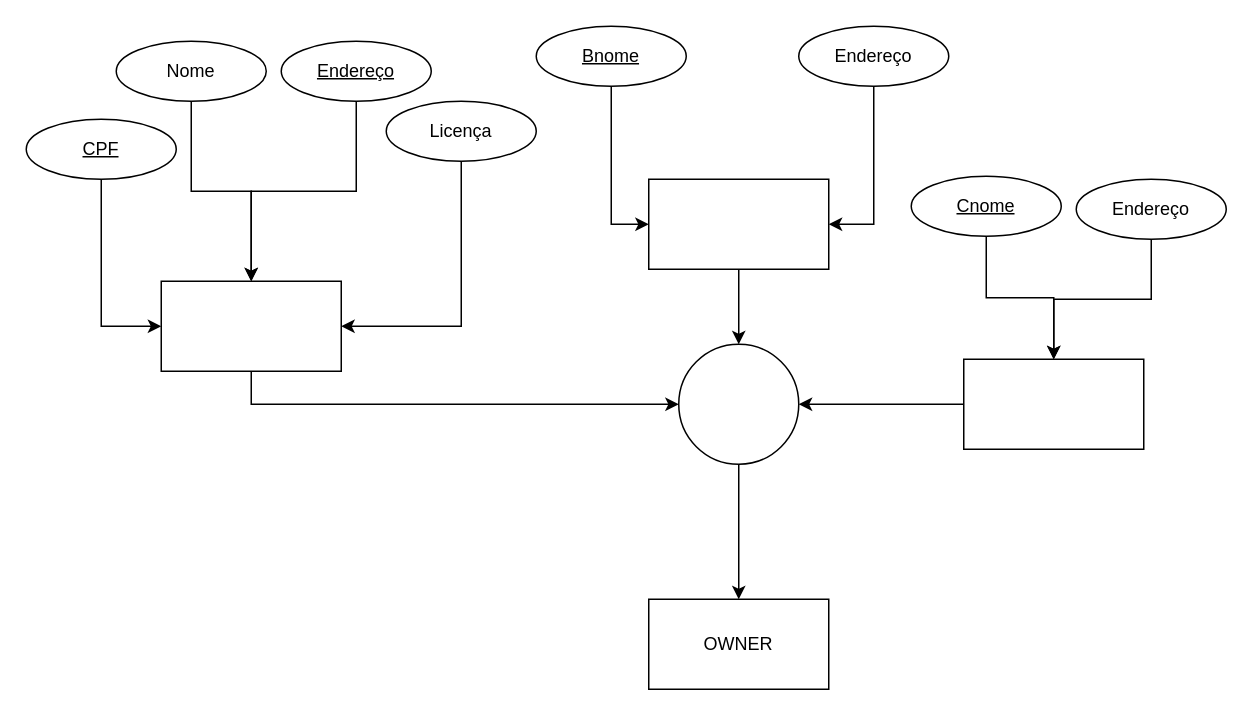
Some shapes in this 1253 by 716 pixel diagram are drawn without their labels. The centre of each missing label's shape, as x and y in pixels:
"BANCO" goes at pixel 738 223.
"COMPANIA" goes at pixel 1053 403.
"PESSOA" goes at pixel 250 325.
"U." goes at pixel 738 403.
